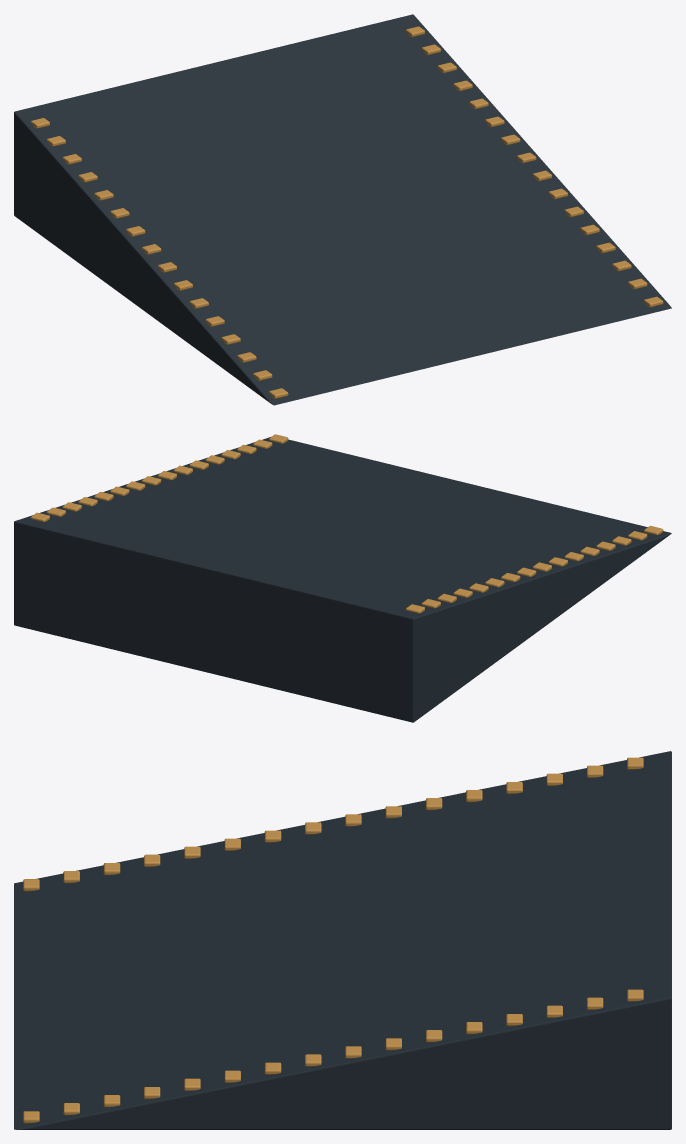
The model's file is SM_Lab_AccessRamp.fbx.
3 renders of one model, top to bottom at view 1: azimuth 30°, elevation 25°; view 2: azimuth 150°, elevation 25°; view 3: azimuth 270°, elevation 25°, orthographic. The views are drawn at different scales.
Parts seen in each view (by area): view 1: SM_Lab_AccessRamp; view 2: SM_Lab_AccessRamp; view 3: SM_Lab_AccessRamp.
Part boxes in pixels (x1,y1,x2,y2): SM_Lab_AccessRamp: [14, 14, 671, 405]; SM_Lab_AccessRamp: [14, 434, 671, 722]; SM_Lab_AccessRamp: [14, 751, 671, 1129].
Bounding box in the file's own units: 160 × 180 × 39.91.
